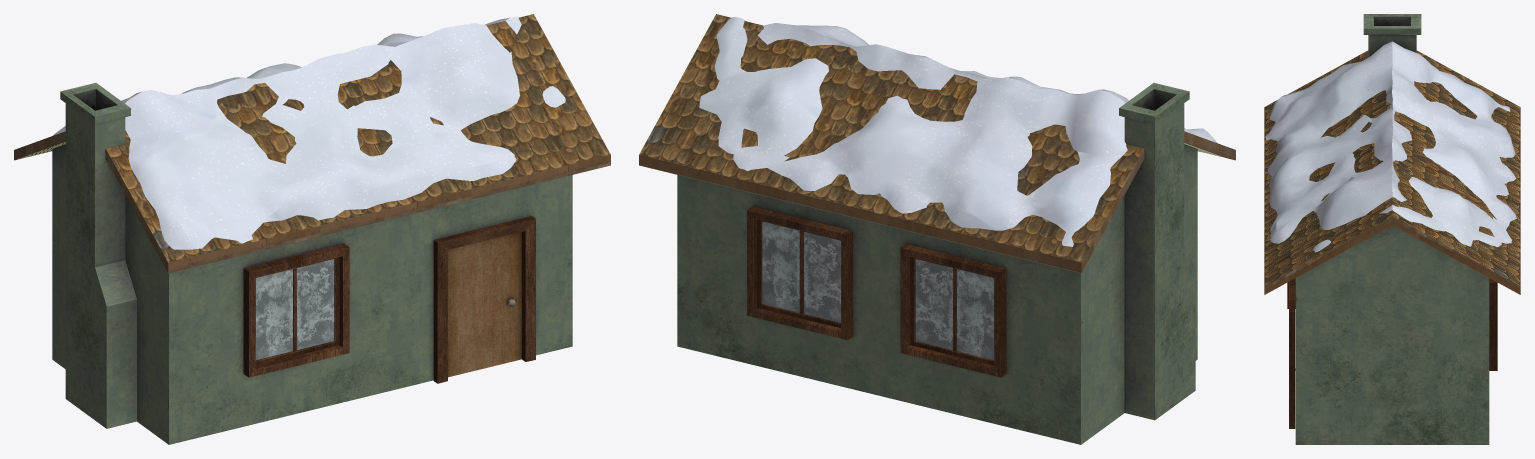
Rendered from Casita.glb.
The picture shows the model from 3 angles, left to right: view 1: azimuth 30°, elevation 25°; view 2: azimuth 150°, elevation 25°; view 3: azimuth 270°, elevation 25°; orthographic projection. The views are drawn at different scales.
Visible parts, largest first — view 1: Casita.001; view 2: Casita.001; view 3: Casita.001.
Part boxes in pixels (bbox=[...]): Casita.001: bbox=[14, 14, 610, 444]; Casita.001: bbox=[639, 14, 1235, 444]; Casita.001: bbox=[1264, 14, 1520, 444].
Bounding box in the file's own units: 31.02 × 19.93 × 18.18.
1 material, 1 textured.
